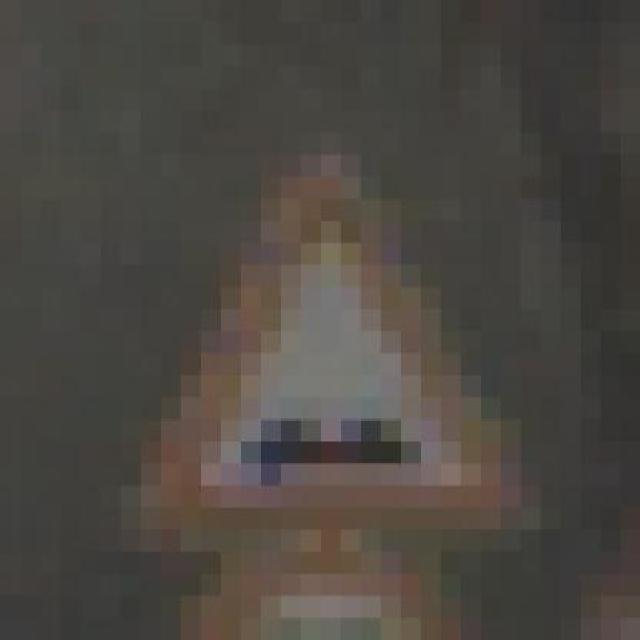Uneven Road: (100, 132, 560, 552)
